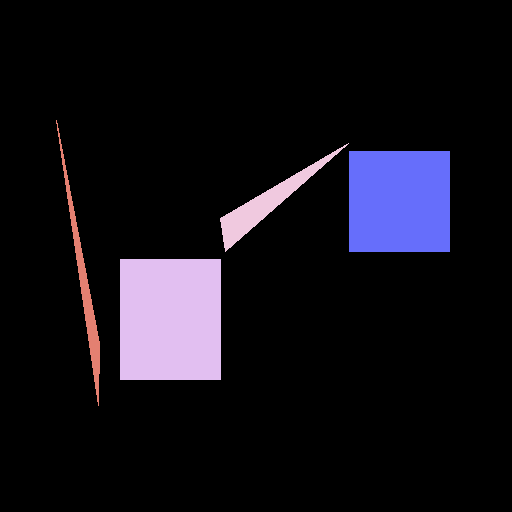rectangle: (120, 259, 220, 379)
square: (349, 151, 449, 251)
triangle: (221, 143, 348, 251)
